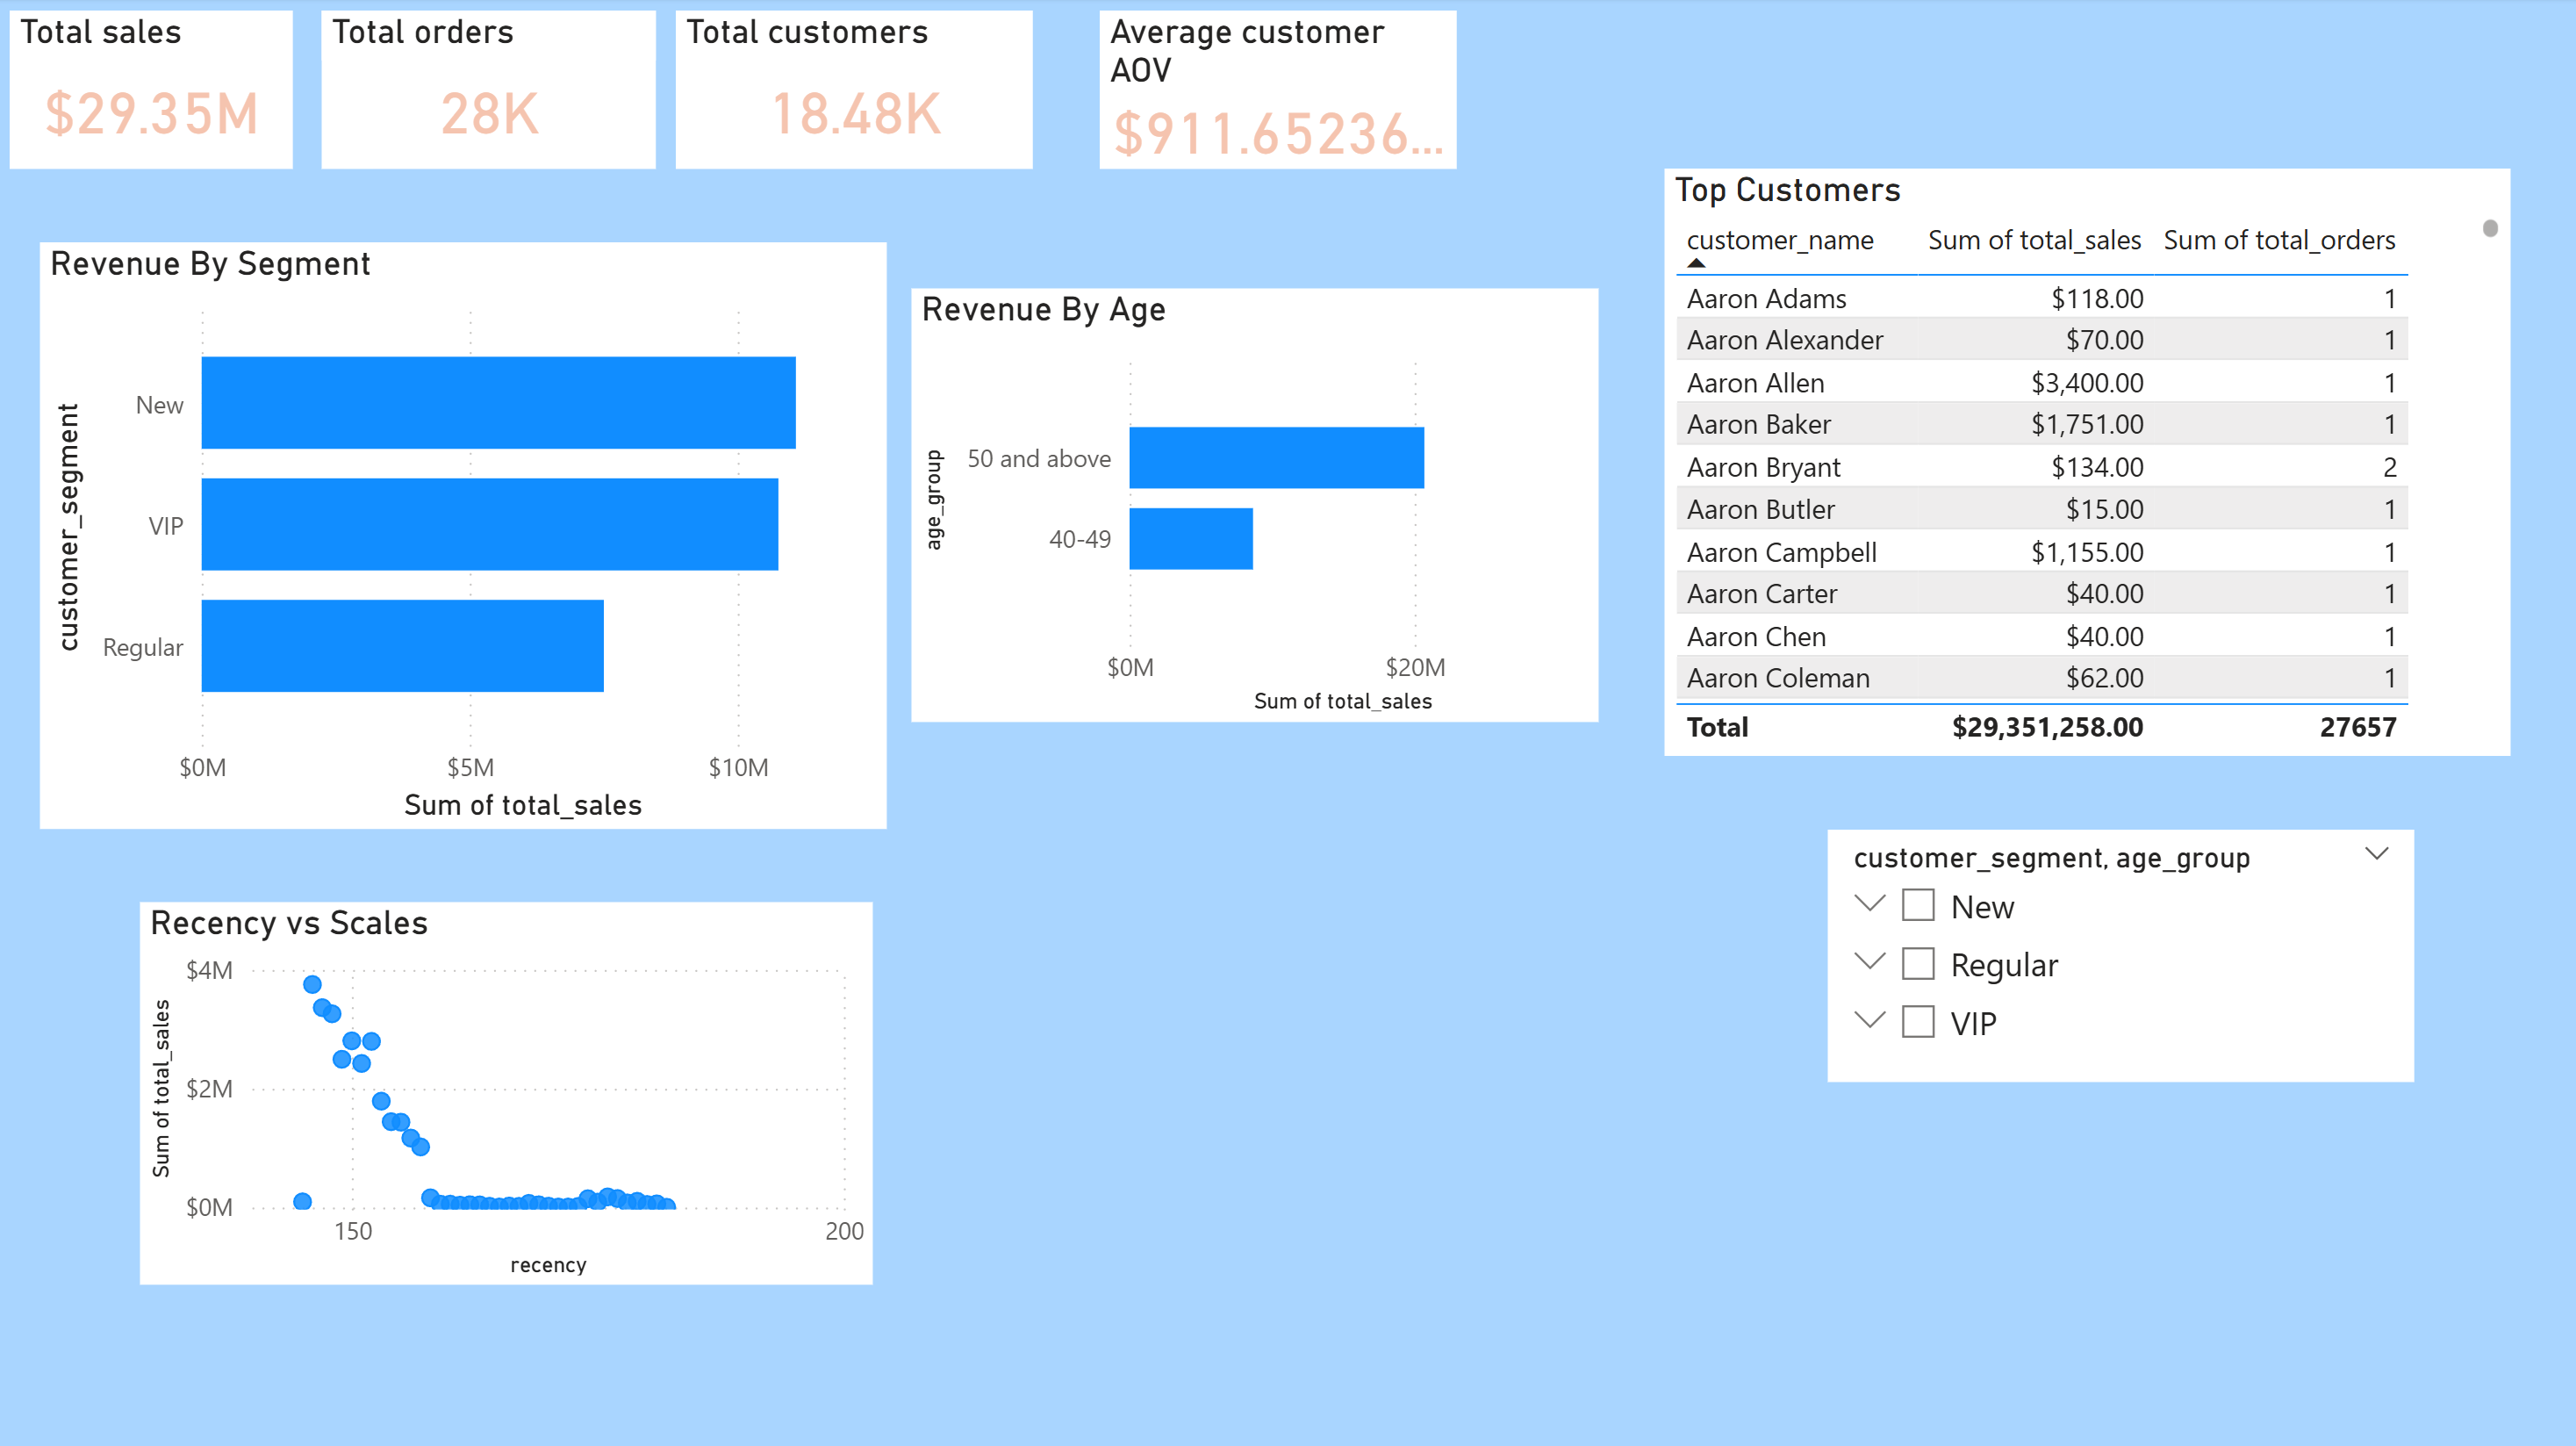

What the dashboard file says about the page in this screenshot:
{"tool":"powerbi","page":{"name":"Customer_report","canvas":[1280,720],"ordinal":0},"visuals":[{"type":"card","title":"Total sales","fields":{"Values":["gold report customers.total_sales"]},"box":[5.2,6.5,140.6,78.5],"z":0},{"type":"card","title":"Total orders","fields":{"Values":["gold report customers.total_orders"]},"box":[160.2,6.5,166.1,78.5],"z":1000},{"type":"card","title":"Total customers","fields":{"Values":["gold report customers.customer_key"]},"box":[336.1,6.5,177.2,78.5],"z":2000},{"type":"card","title":"Average customer AOV","fields":{"Values":["gold report customers.avg_order_value"]},"box":[546.7,6.5,177.2,78.5],"z":3000},{"type":"barChart","title":"Revenue By Segment","fields":{"Category":["gold report customers.customer_segment"],"Y":["gold report customers.total_sales"]},"box":[20.3,121.6,420.5,291.7],"z":4000},{"type":"barChart","title":"Revenue By Age","fields":{"Category":["gold report customers.age_group"],"Y":["gold report customers.total_sales"]},"box":[453.2,144.5,341.4,215.2],"z":5000},{"type":"tableEx","title":"Top Customers","fields":{"Values":["gold report customers.customer_name","gold report customers.total_sales","gold report customers.total_orders"]},"box":[827.3,85,419.8,291.7],"z":6000},{"type":"scatterChart","title":"Recency vs Scales","fields":{"X":["gold report customers.recency"],"Y":["gold report customers.total_sales"]},"box":[70,449.3,364.3,190.3],"z":7000},{"type":"slicer","fields":{"Values":["gold report customers.customer_segment","gold report customers.age_group"]},"box":[908.3,413.3,291.7,125.6],"z":8000}]}

Visuals, with their boxes in screenshot pixels (x1, y1, x2, y2), scaled from the page's 1280x720 canvas onto the 2576x1446 screenshot:
"Total sales" card: bbox(11, 13, 293, 170)
"Total orders" card: bbox(322, 13, 657, 170)
"Total customers" card: bbox(677, 13, 1033, 170)
"Average customer AOV" card: bbox(1101, 13, 1457, 170)
"Revenue By Segment" barChart: bbox(41, 244, 887, 830)
"Revenue By Age" barChart: bbox(912, 291, 1599, 723)
"Top Customers" tableEx: bbox(1665, 170, 2510, 757)
"Recency vs Scales" scatterChart: bbox(141, 903, 874, 1284)
slicer - gold report customers.customer_segment x gold report customers.age_group: bbox(1828, 830, 2415, 1083)
